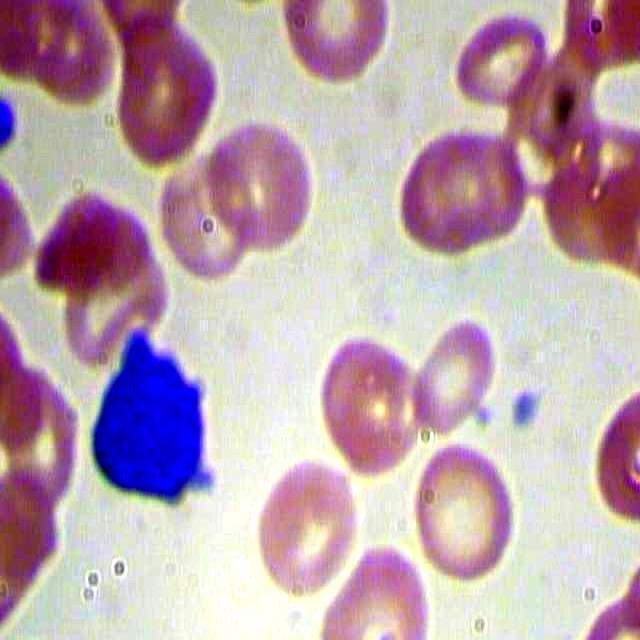RBC: (106, 24, 221, 167), (407, 436, 516, 583), (318, 329, 427, 476), (203, 113, 312, 260), (389, 121, 498, 268), (251, 455, 360, 601), (31, 168, 153, 296), (156, 143, 262, 281), (443, 1, 549, 108), (319, 544, 433, 639), (413, 312, 497, 432), (281, 2, 384, 94)
WBC: (73, 323, 234, 521)
